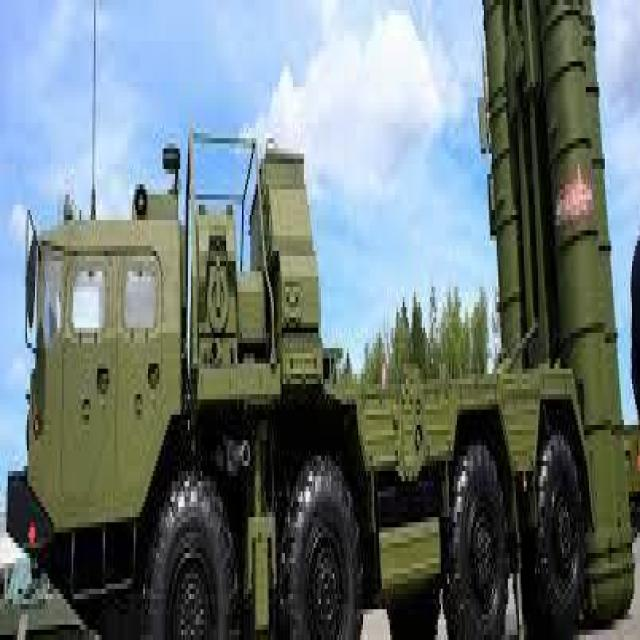Tanks: (12, 131, 563, 627)
